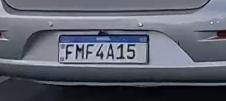Placa_mercosul_carro: (58, 34, 150, 64)
